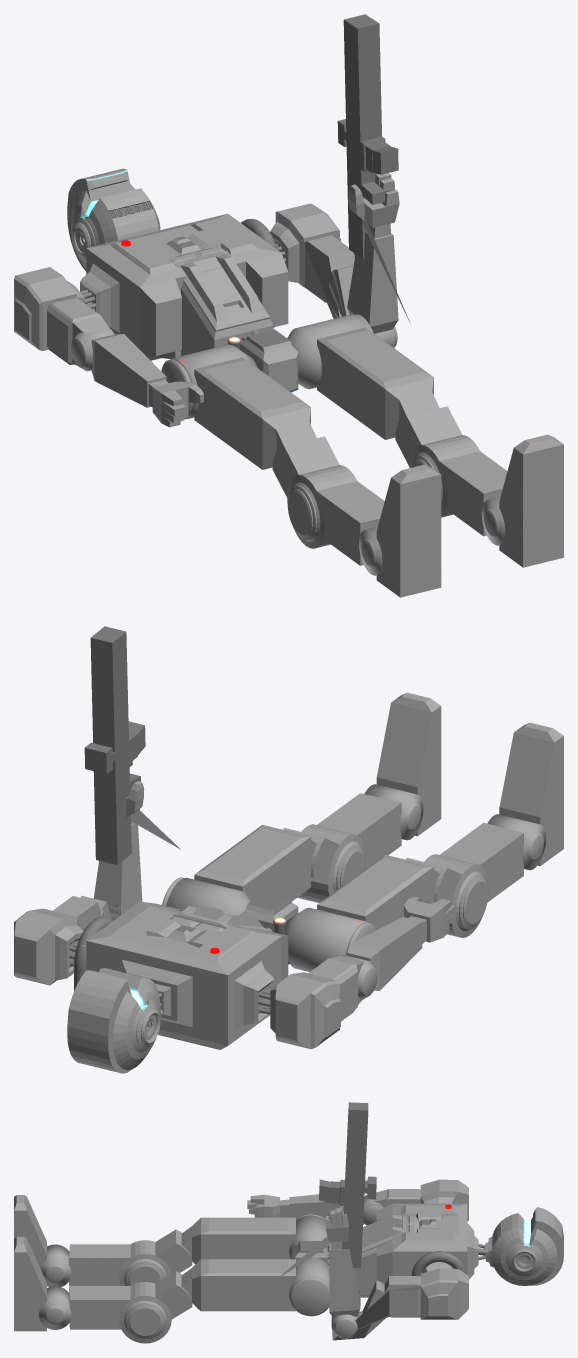
File: Meca Artillery Unit.fbx
3 views of the same model, one above another, from view 1: azimuth 30°, elevation 25°; view 2: azimuth 150°, elevation 25°; view 3: azimuth 270°, elevation 25° (orthographic). The views are drawn at different scales.
Parts seen in each view (by area): view 1: Mechanical Infantryman ECS; view 2: Mechanical Infantryman ECS; view 3: Mechanical Infantryman ECS.
Part boxes in pixels (x1,y1,x2,y2): Mechanical Infantryman ECS: (14,14,563,597); Mechanical Infantryman ECS: (14,626,563,1073); Mechanical Infantryman ECS: (14,1102,563,1343).
Size of the model in its own units: 9527 by 10580 by 20871.
